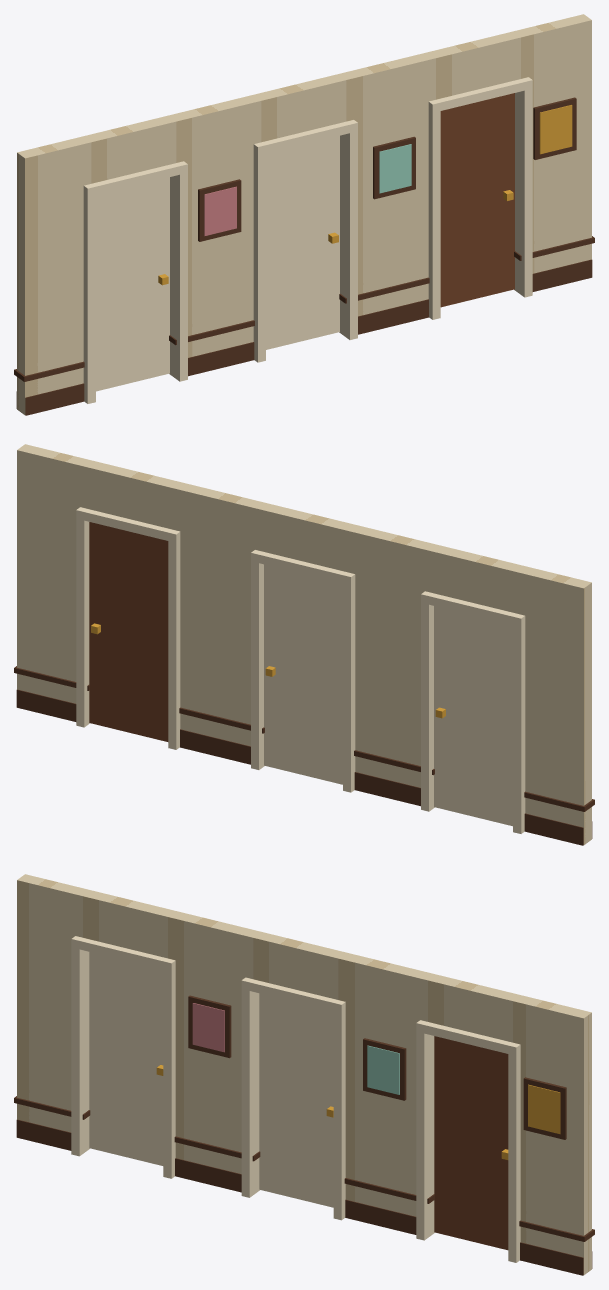
The model's file is hall_north.glb.
3 views of the same model, one above another, from view 1: azimuth 30°, elevation 25°; view 2: azimuth 150°, elevation 25°; view 3: azimuth 330°, elevation 25° (orthographic).
Parts seen in each view (by area): view 1: Box1, Box5, Box33, Box21, Box27, Box3, Box7, Box10, Box9, Box11, Box31, Box19 (+19 smaller); view 2: Box5, Box3, Box1, Box33, Box27, Box21, Box7, Box10, Box9, Box11, Box31, Box30 (+12 smaller); view 3: Box5, Box7, Box3, Box27, Box21, Box33, Box1, Box10, Box9, Box11, Box18, Box24 (+21 smaller).
Part boxes in pixels (x1,y1,x2,y2): Box1: (17, 136, 91, 415); Box5: (338, 52, 435, 316); Box33: (440, 93, 514, 307); Box21: (96, 177, 169, 391); Box27: (266, 135, 339, 349); Box3: (168, 95, 261, 357); Box7: (513, 14, 591, 273); Box10: (253, 74, 346, 142); Box9: (83, 115, 176, 183); Box11: (428, 31, 520, 99); Box31: (514, 77, 532, 297); Box19: (169, 161, 187, 381); Box5: (173, 482, 270, 746); Box3: (347, 525, 440, 787); Box1: (517, 566, 591, 845); Box33: (89, 522, 168, 741); Box27: (264, 564, 342, 784); Box21: (434, 606, 512, 826); Box7: (17, 444, 95, 703); Box10: (262, 504, 355, 572); Box9: (432, 545, 525, 613); Box11: (88, 461, 180, 529); Box31: (76, 507, 89, 727); Box30: (168, 529, 180, 749); Box5: (338, 952, 435, 1215); Box7: (513, 995, 591, 1275); Box3: (168, 911, 260, 1173); Box27: (259, 993, 333, 1207); Box21: (89, 952, 163, 1165); Box33: (434, 1036, 508, 1250); Box1: (17, 874, 90, 1132); Box10: (253, 932, 345, 999); Box9: (83, 890, 175, 958); Box11: (428, 974, 520, 1042); Box18: (71, 936, 89, 1156); Box24: (241, 977, 259, 1197).
Bounding box in the file's own units: 6.04 × 2.6 × 0.3.
7 materials, 1 textured.
